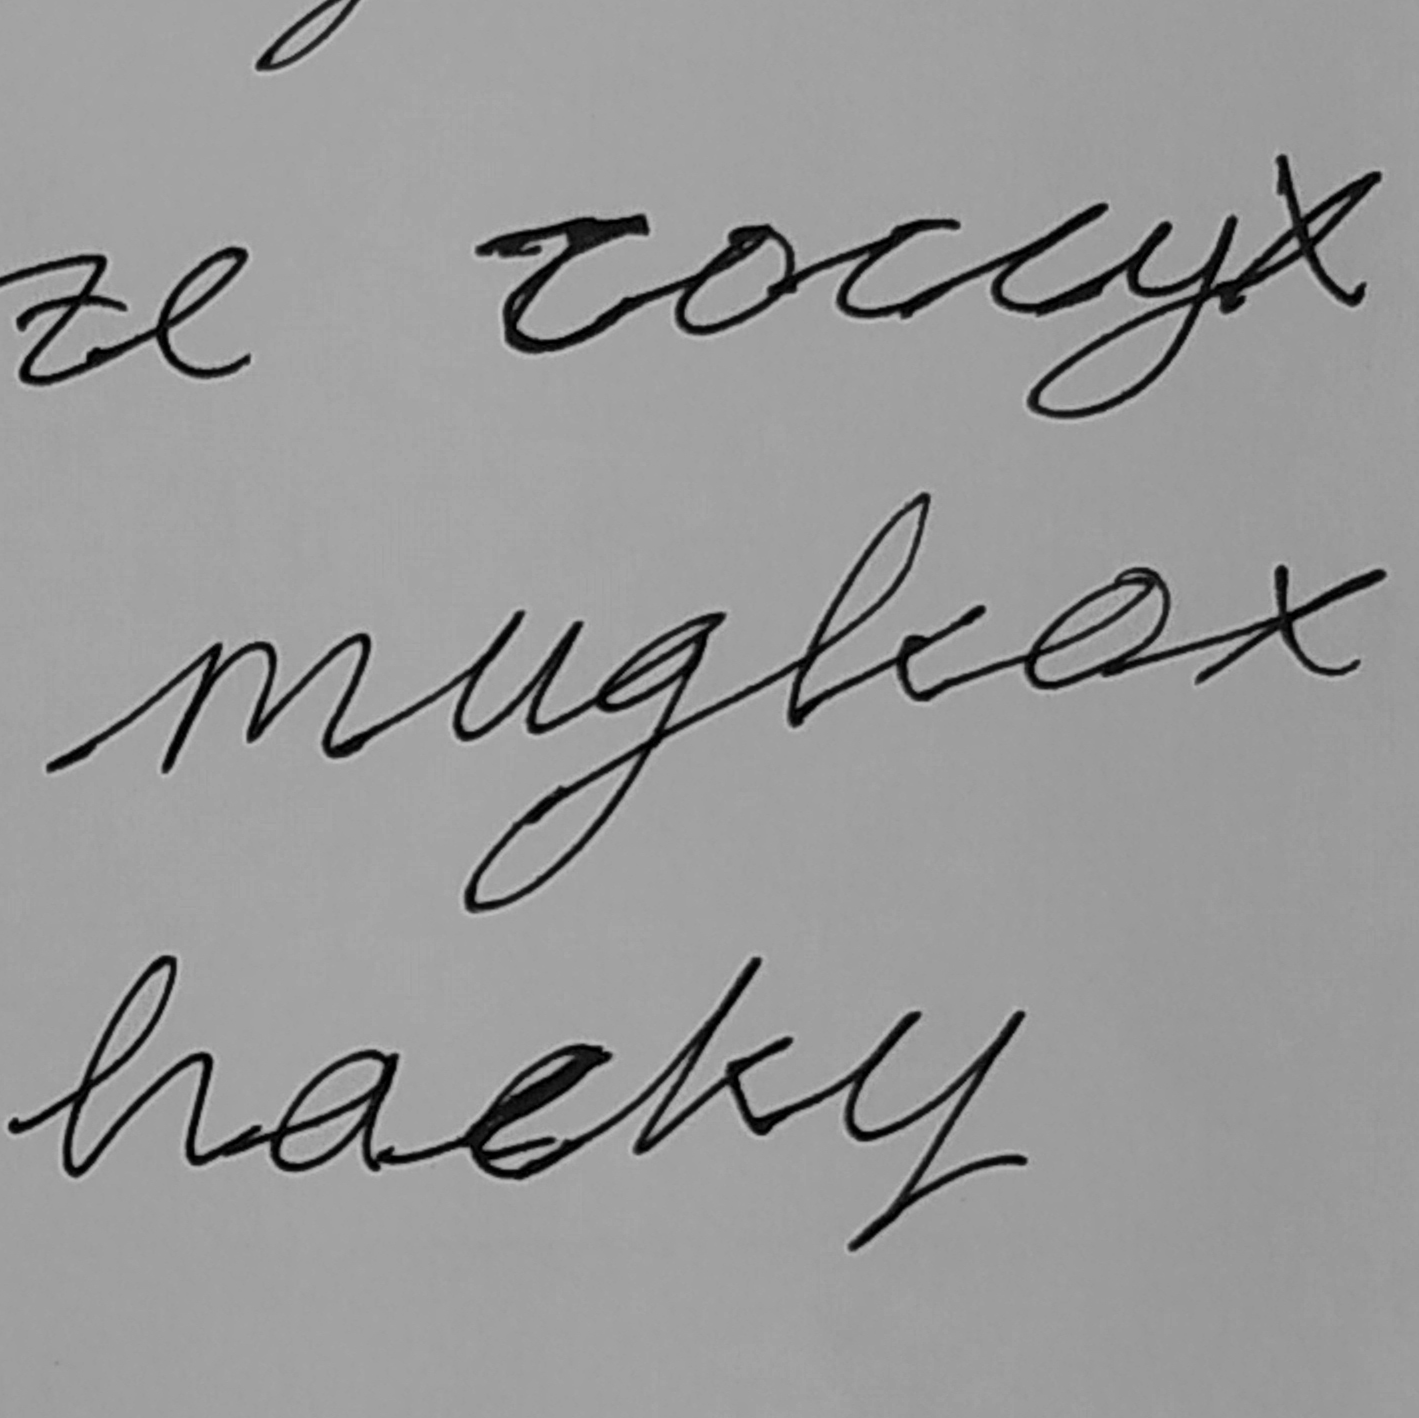g: (458, 606, 730, 921)
k: (780, 488, 989, 734)
m: (151, 627, 376, 779)
o: (1020, 561, 1176, 697)
u: (447, 604, 588, 748)
x: (1189, 560, 1389, 693)
